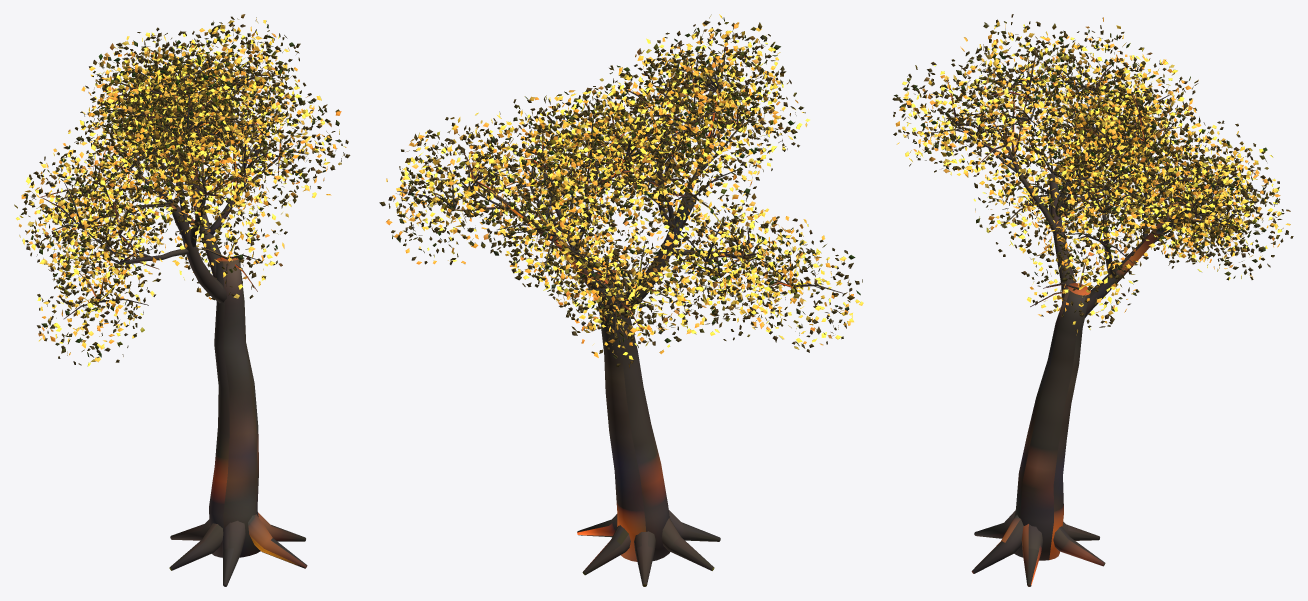
File: tree.glb
3 renders of one model, left to right at view 1: azimuth 30°, elevation 25°; view 2: azimuth 150°, elevation 25°; view 3: azimuth 270°, elevation 25°, orthographic. The views are drawn at different scales.
Visible parts, largest first — view 1: AR_tree; view 2: AR_tree; view 3: AR_tree.
Boxes of the visible parts, x1,y1,x2,y2 form: AR_tree: (14, 14, 350, 586); AR_tree: (379, 14, 863, 586); AR_tree: (892, 14, 1293, 586).
Size of the model in its own units: 4.14 by 5.99 by 4.28.
1 material, 1 textured.
